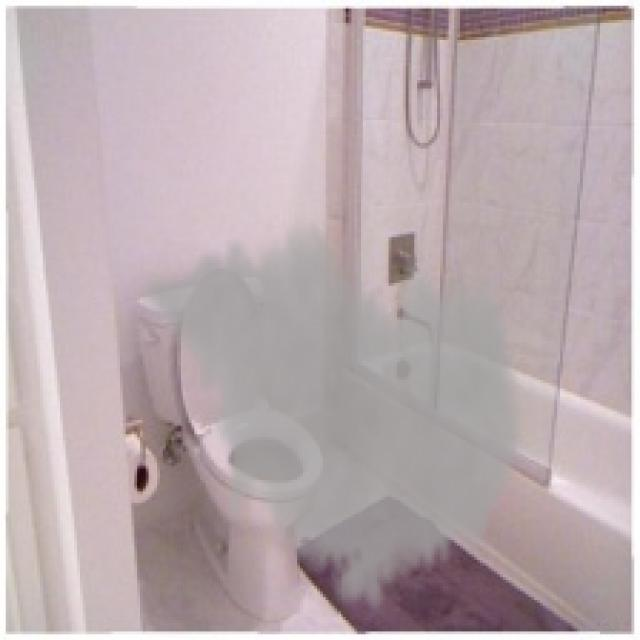smoke: (140, 209, 529, 620)
